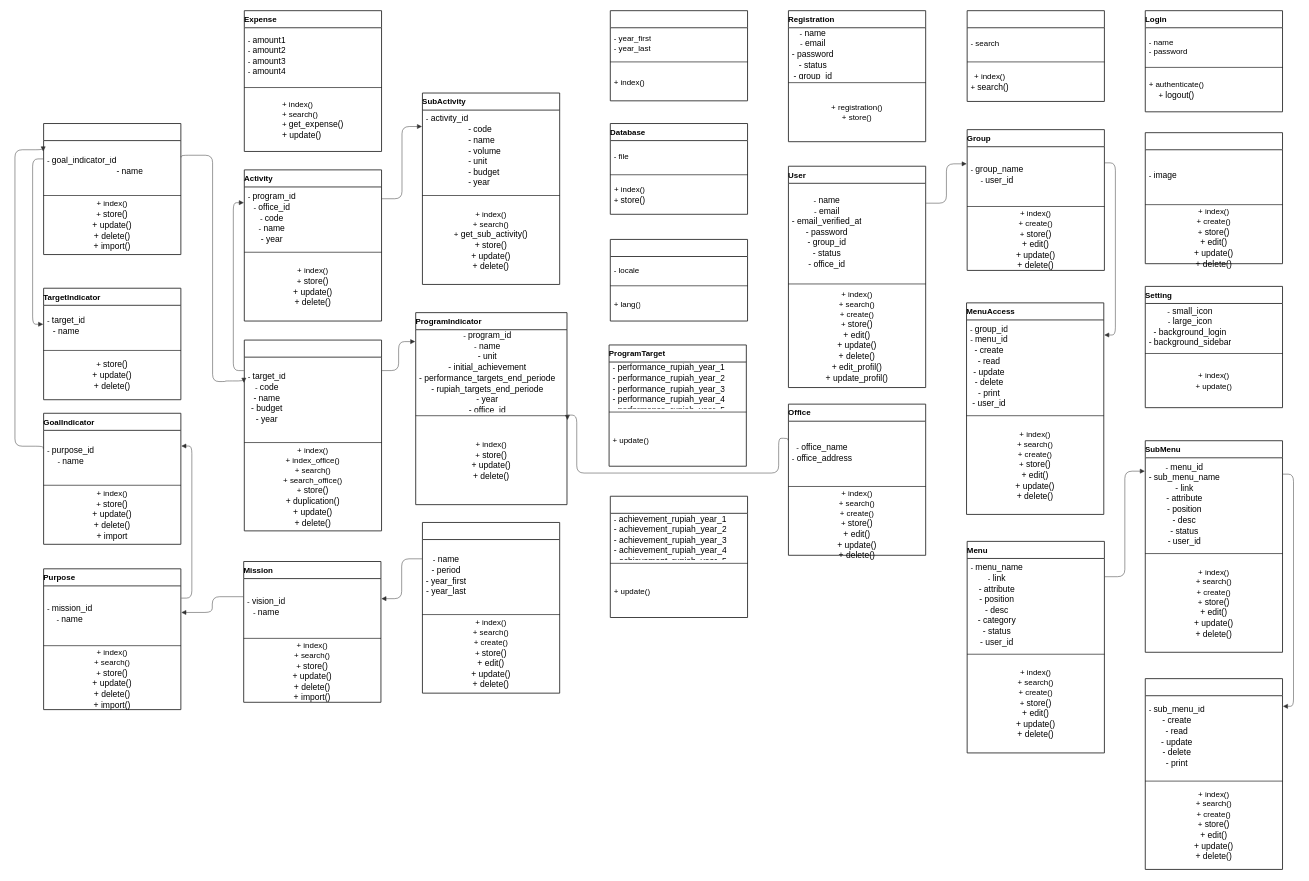
Image size: 1309x881. Some labels were removed from this diagram. The shapes that lost their labels are listed below. From the top down, each one's box as (x1, y1, x2, y2) in pixels, then its label:
(610, 10, 748, 101): Home
(966, 10, 1105, 102): Log
(43, 123, 181, 255): Target
(1145, 132, 1283, 264): Slider
(610, 239, 748, 321): Localization
(244, 339, 382, 531): Program
(610, 496, 748, 618): ProgramAchievement
(422, 522, 560, 693): Vision
(1145, 678, 1283, 870): SubMenuAccess
